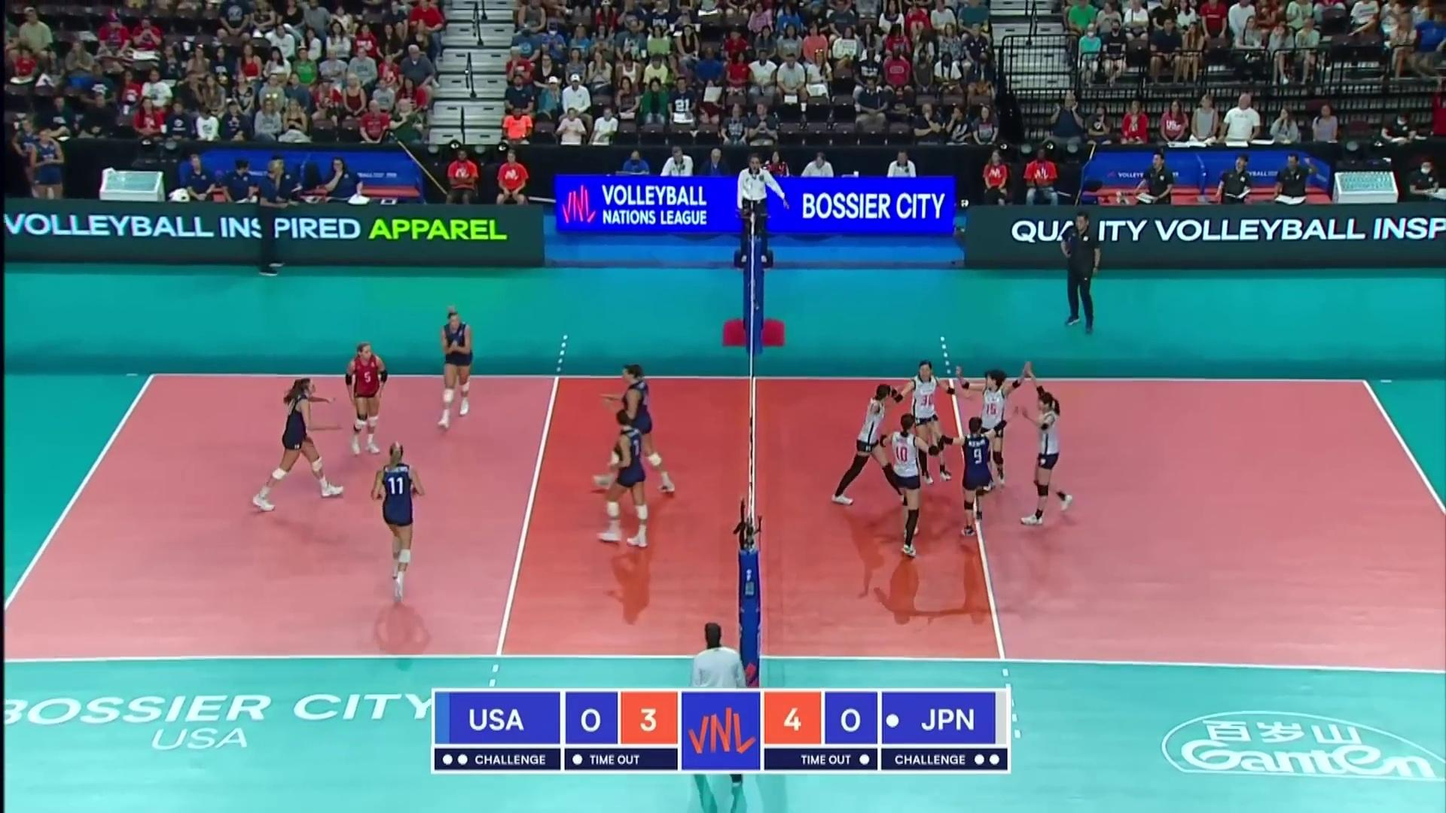player: (257, 379, 345, 511), (869, 404, 946, 552), (826, 386, 911, 515), (1008, 378, 1079, 528), (599, 416, 670, 551), (961, 355, 1025, 489), (601, 362, 665, 494), (370, 447, 429, 582), (950, 410, 1008, 544), (901, 358, 958, 485), (346, 341, 397, 463), (442, 312, 479, 424)
refree: (682, 616, 752, 791), (738, 151, 777, 261)
